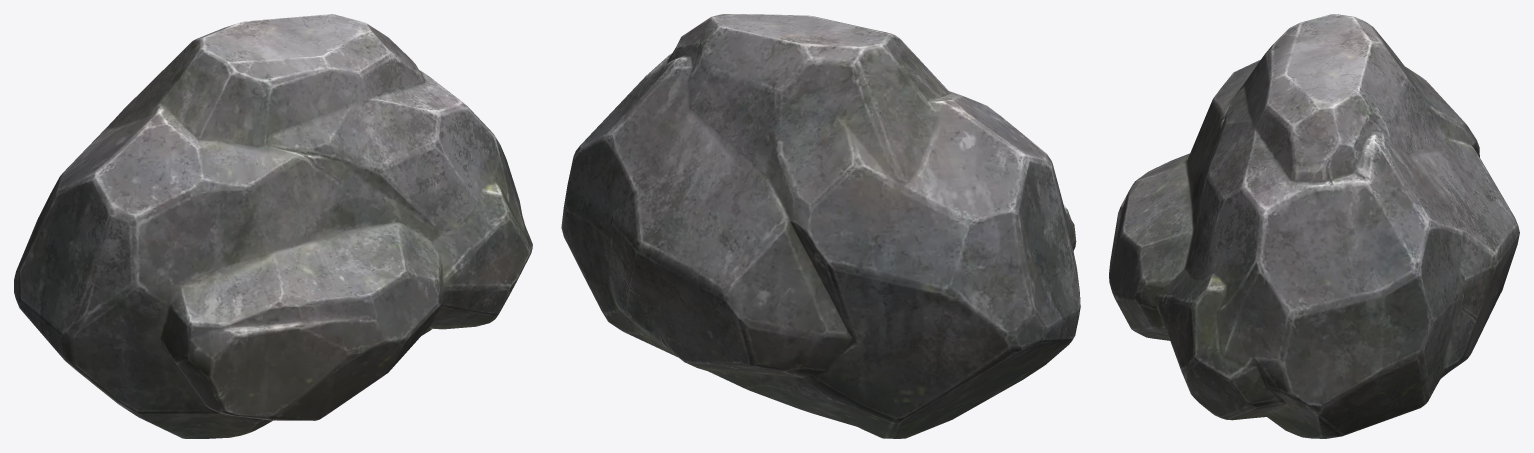
3 views of the same model, side by side, from view 1: azimuth 30°, elevation 25°; view 2: azimuth 150°, elevation 25°; view 3: azimuth 270°, elevation 25° (orthographic). The views are drawn at different scales.
Parts seen in each view (by area): view 1: SM_Small_Boulder_01v2_LOD0; view 2: SM_Small_Boulder_01v2_LOD0; view 3: SM_Small_Boulder_01v2_LOD0.
Boxes of the visible parts, bbox=[...] form: SM_Small_Boulder_01v2_LOD0: bbox=[14, 14, 532, 438]; SM_Small_Boulder_01v2_LOD0: bbox=[561, 14, 1080, 438]; SM_Small_Boulder_01v2_LOD0: bbox=[1109, 14, 1519, 438].
Bounding box in the file's own units: 1.64 × 1.25 × 1.25.
1 material, 1 textured.
